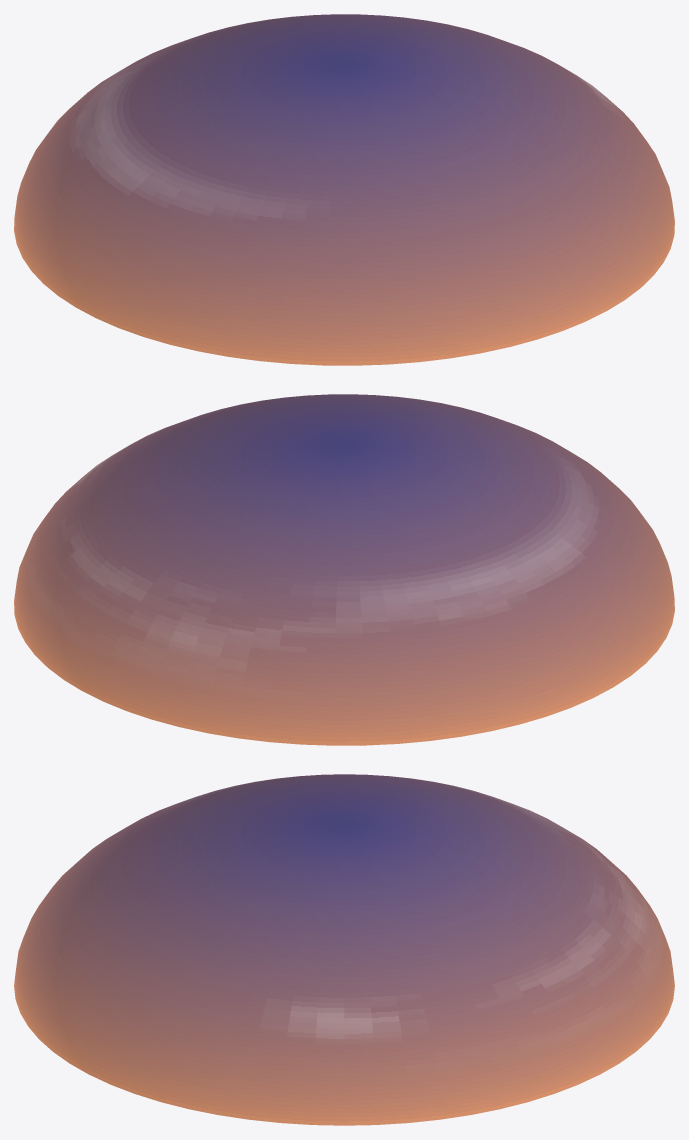
Rendered from env-sky-empathic-x.glb.
The picture shows the model from 3 angles, top to bottom: view 1: azimuth 30°, elevation 25°; view 2: azimuth 150°, elevation 25°; view 3: azimuth 270°, elevation 25°; orthographic projection.
Visible parts, largest first — view 1: Sky; view 2: Sky; view 3: Sky.
Boxes of the visible parts, left/top/right/bottom form: Sky: left=14, top=14, right=674, bottom=365; Sky: left=14, top=394, right=674, bottom=745; Sky: left=14, top=774, right=674, bottom=1125.
Bounding box in the file's own units: 1200 × 320 × 1200.
2 materials, 1 textured.
